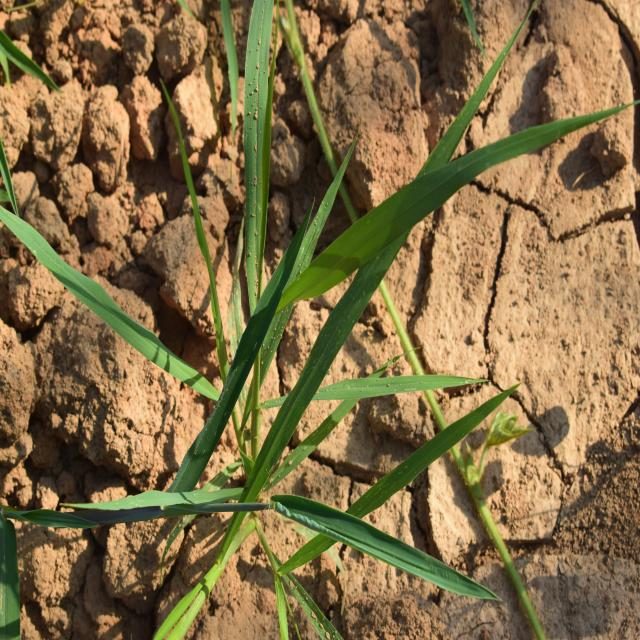green_foxtail: (210, 59, 494, 446)
